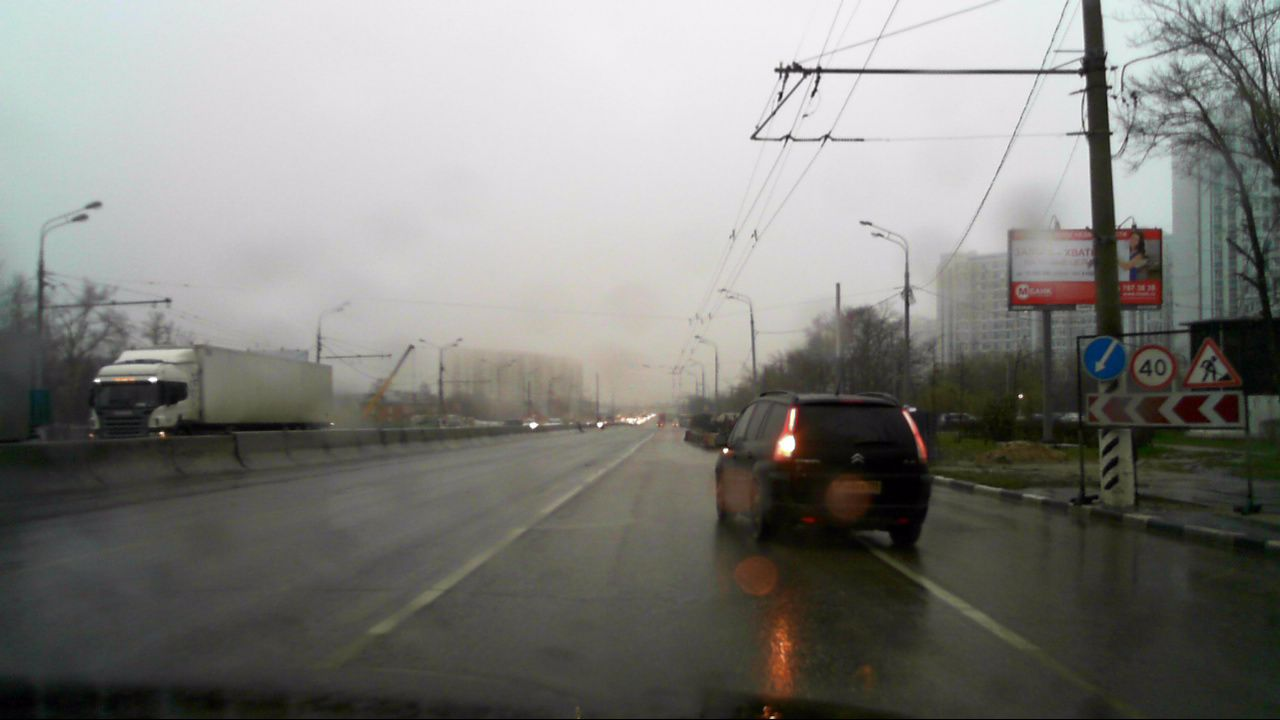speed_warning_40: (1131, 345, 1175, 388)
